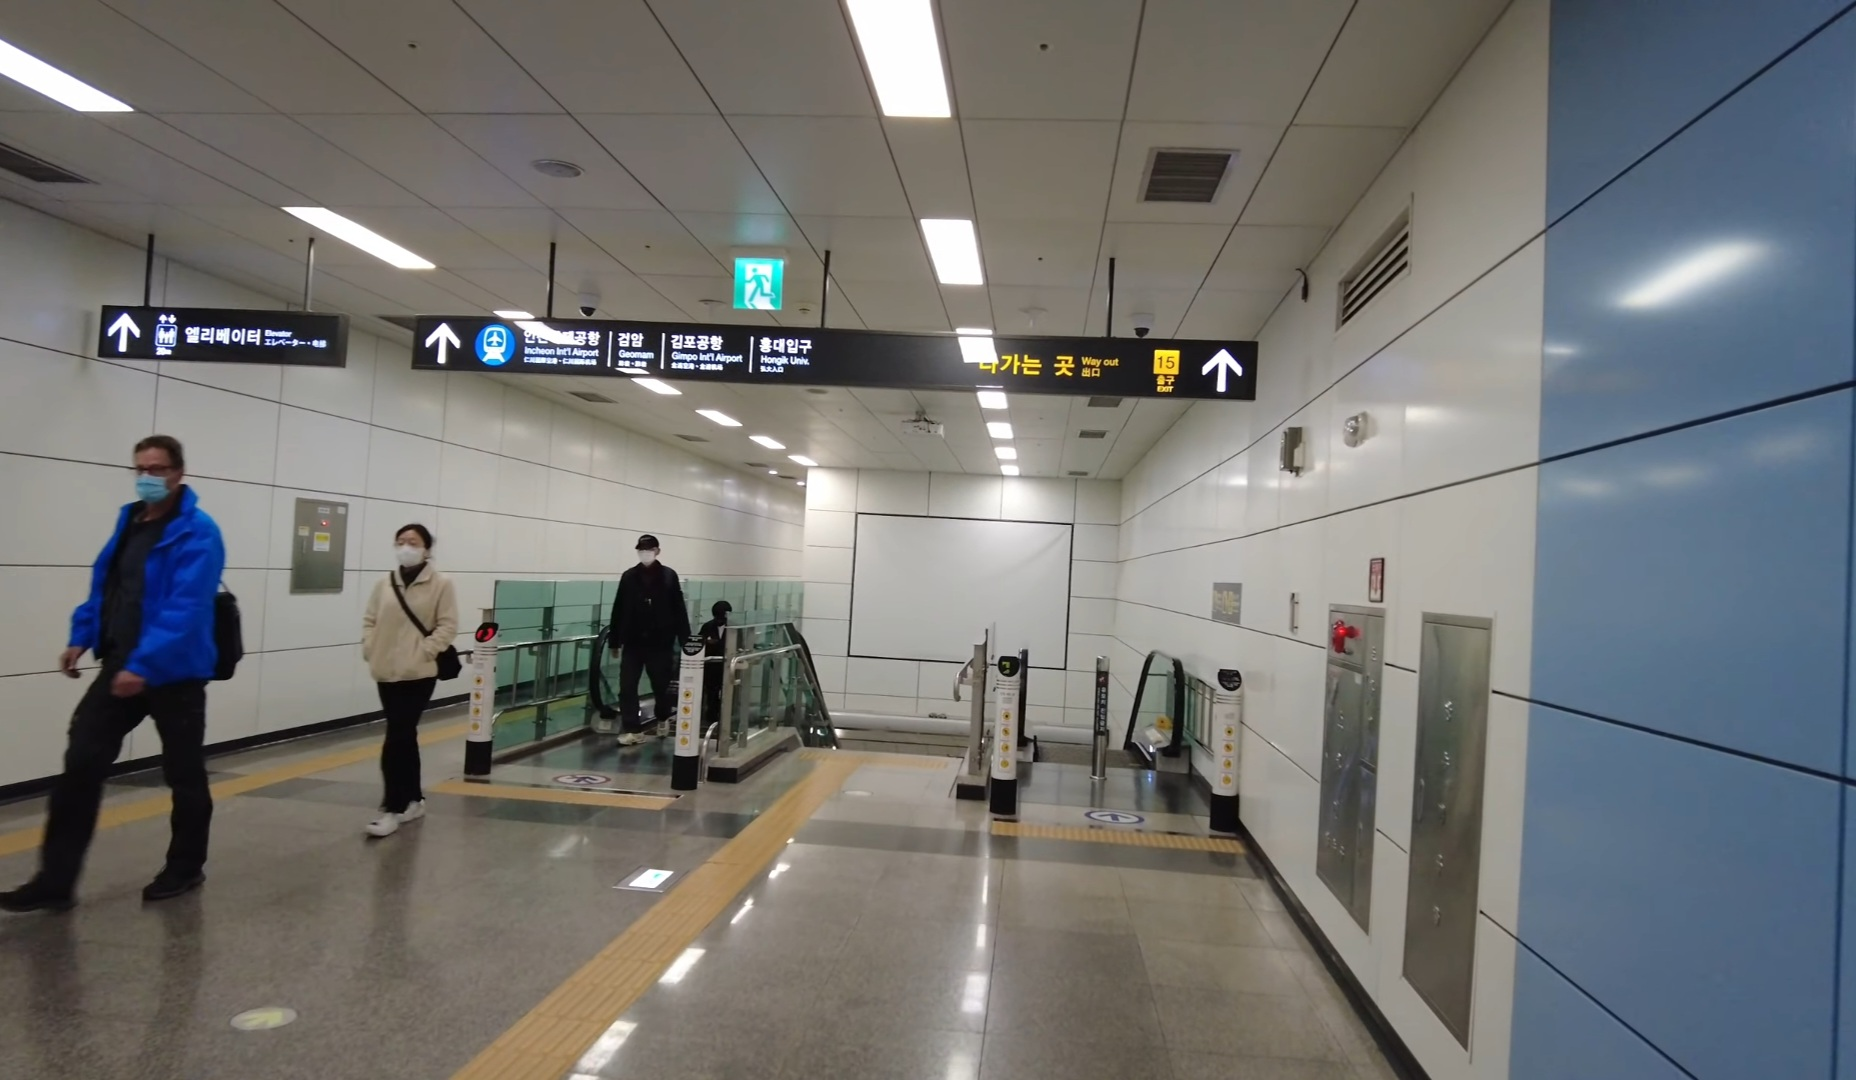signBoard: (407, 303, 1267, 411)
